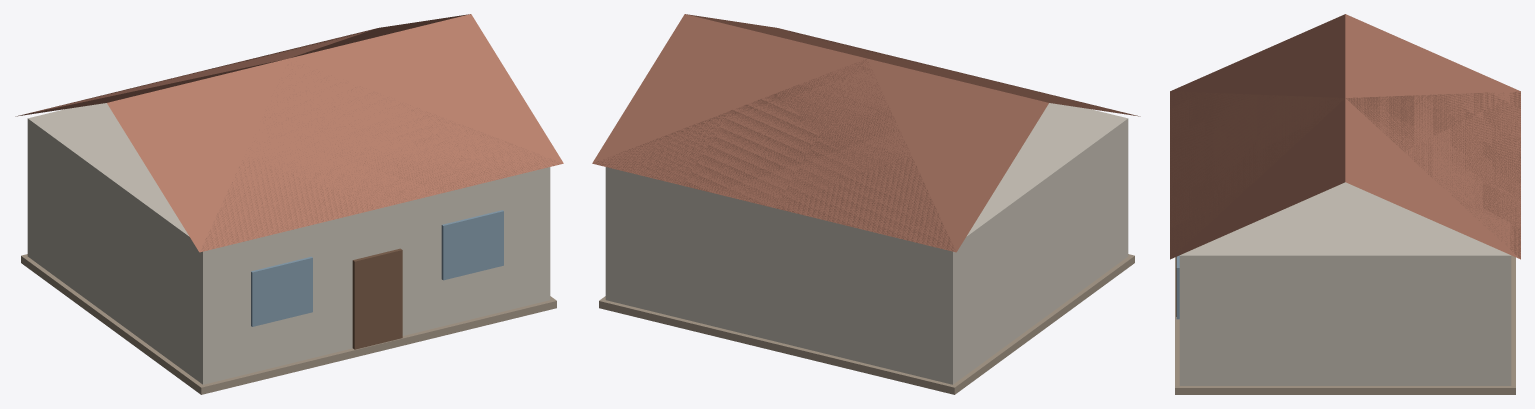
The model's file is compact-cottage.glb.
The picture shows the model from 3 angles, left to right: view 1: azimuth 30°, elevation 25°; view 2: azimuth 150°, elevation 25°; view 3: azimuth 270°, elevation 25°; orthographic projection. The views are drawn at different scales.
Visible parts, largest first — view 1: HouseMassing; view 2: HouseMassing; view 3: HouseMassing.
Part boxes in pixels (<box>): HouseMassing: <box>15,14,563,394</box>; HouseMassing: <box>592,14,1140,394</box>; HouseMassing: <box>1170,14,1520,394</box>.
Bounding box in the file's own units: 8.4 × 5 × 7.4.
